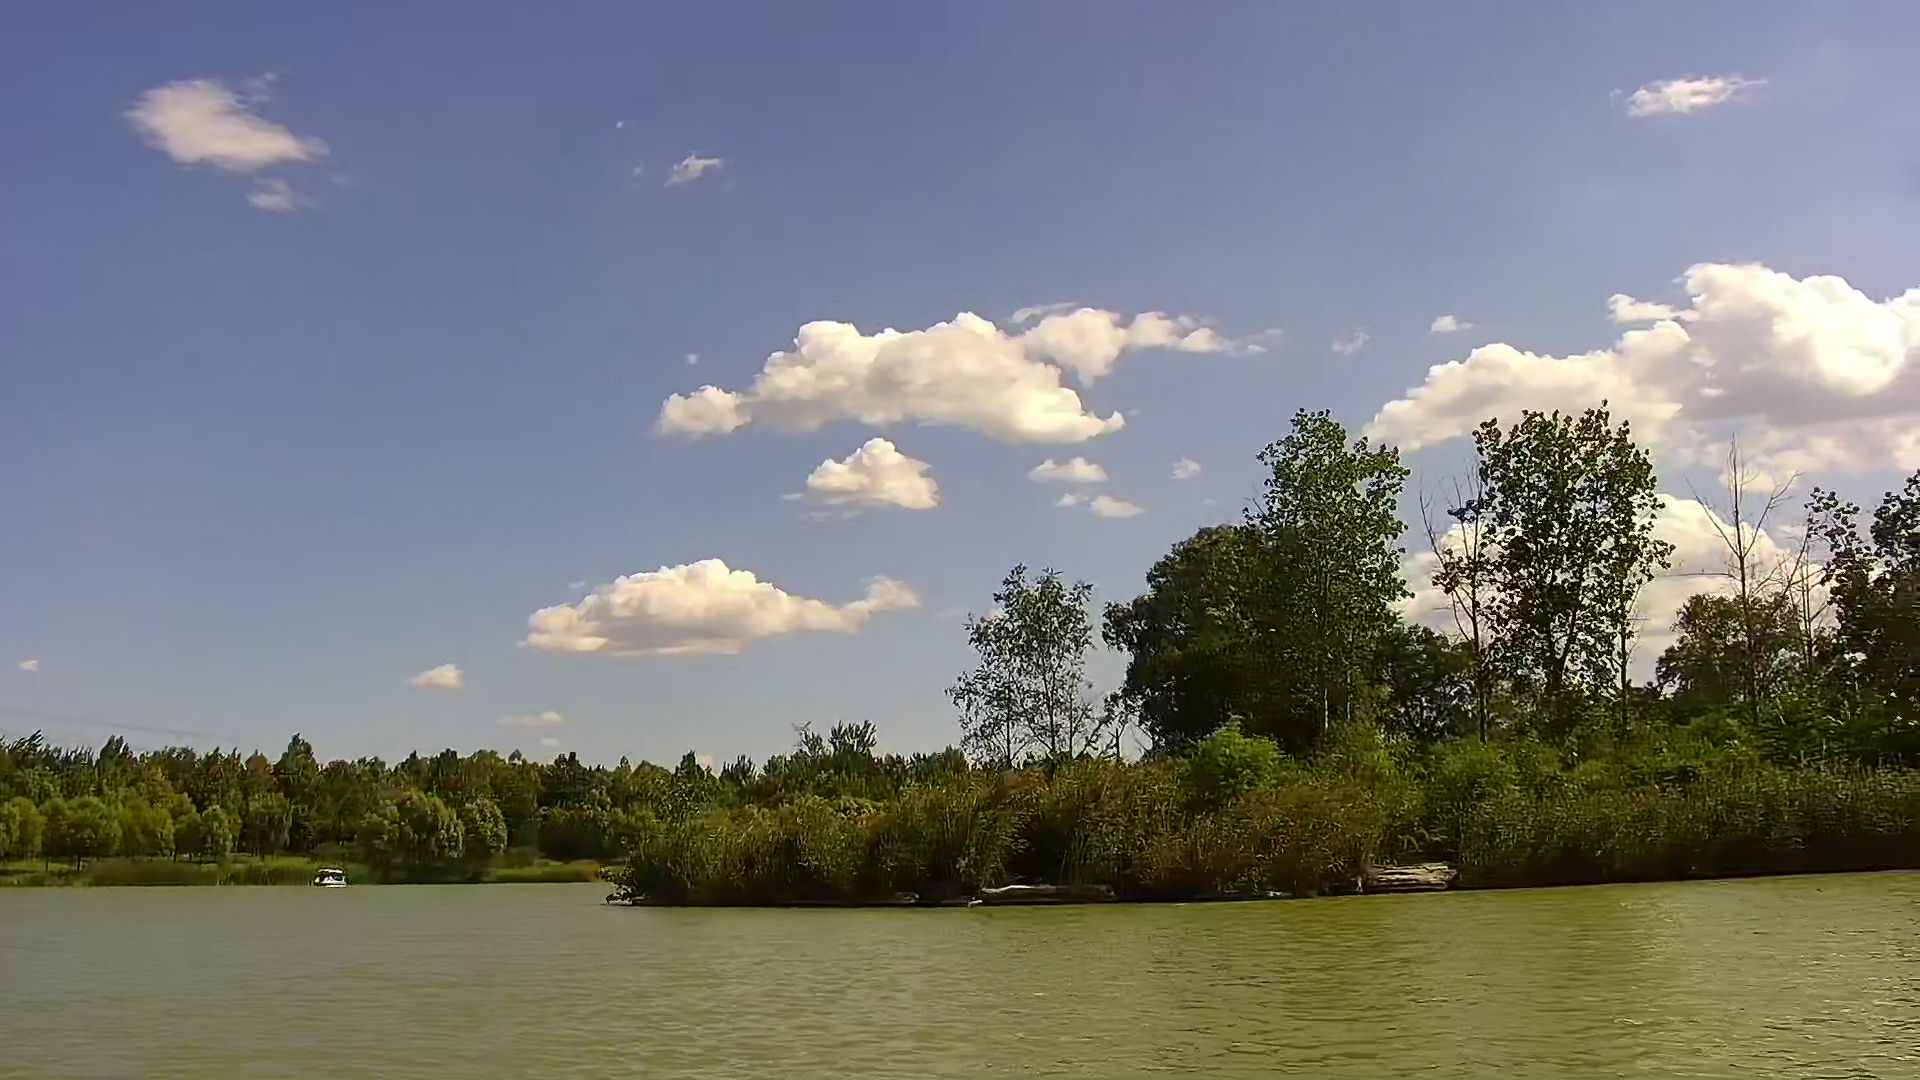boat: (311, 865, 345, 891)
rock: (1356, 862, 1458, 893), (984, 882, 1069, 898)
